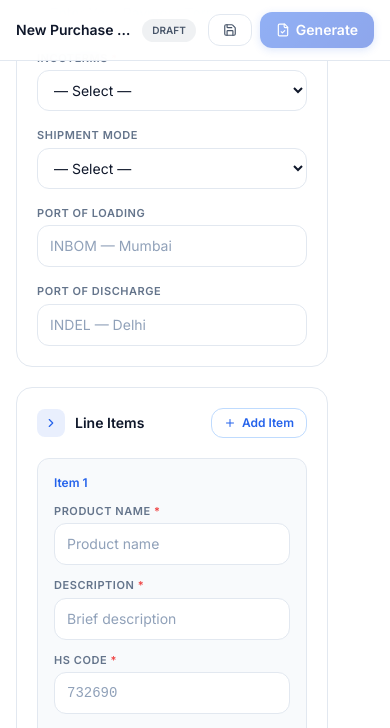
it: PurchaseOrderPage › adds a new line item when "Add Item" is clicked
(page scrolled)
Expected: the text "New Purchase Order" is shown, 16,20 -> 134,40
Expected: the text "Item 1" is shown once, 54,474 -> 88,490
Click the button "Add Item".
click(259, 422)  # box 211,408 -> 307,438
(page scrolled)
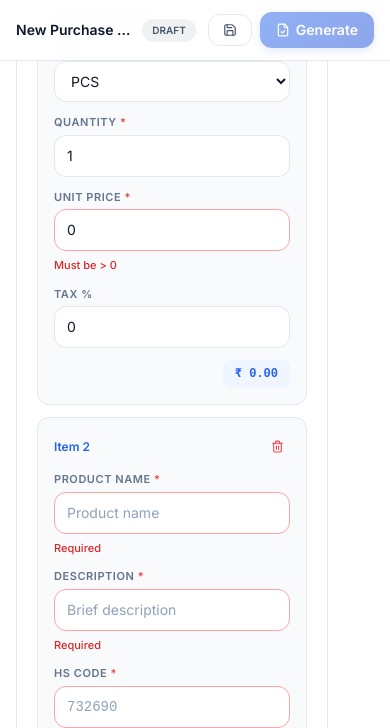
Now the text "Item 2" is shown, box 54,438 -> 90,454
